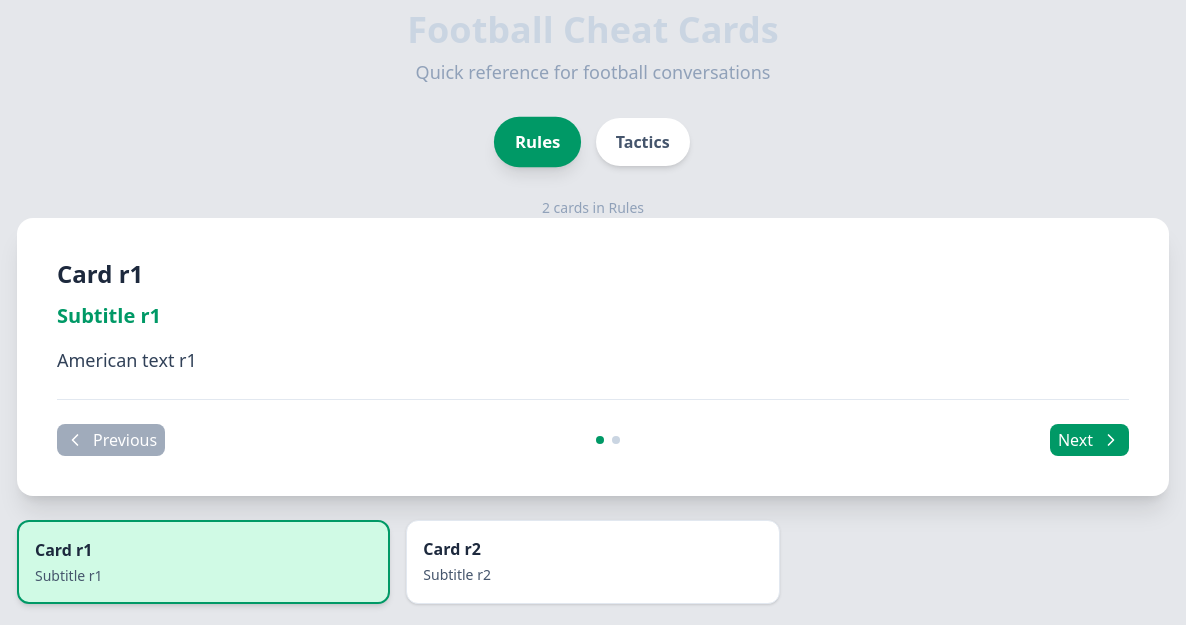
it: CheatCardsPage › navigation › moves to the next card and updates the url
What coordinates should you click on to do the following:
click the button "Next"
I would click on:
 (1089, 440)
Its box is [1050,424,1129,456].
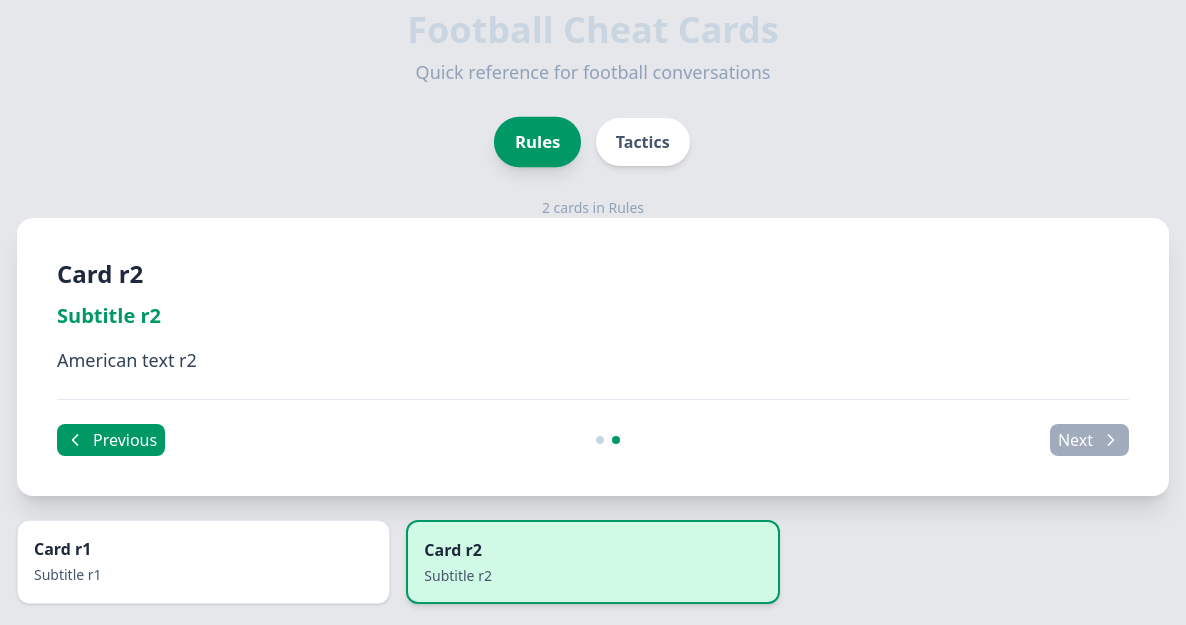
Check: the text "American text r2" is shown, box [57,348,197,372]
